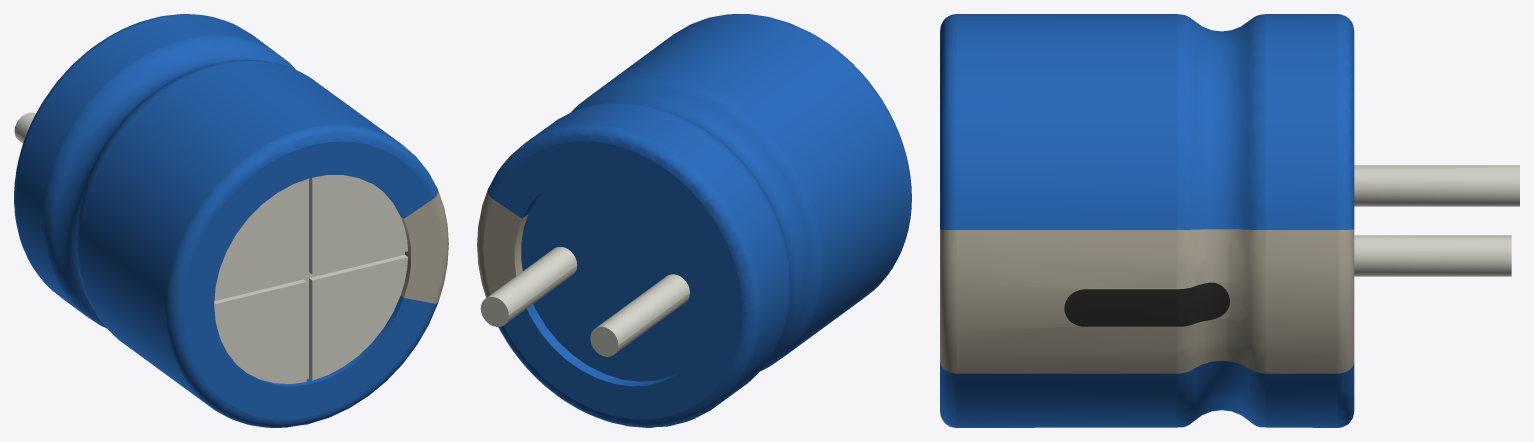
File: Capacitor_THT_CP_Radial_D5.0mm_P2.00mm.glb
The picture shows the model from 3 angles, left to right: view 1: azimuth 30°, elevation 25°; view 2: azimuth 150°, elevation 25°; view 3: azimuth 270°, elevation 25°; orthographic projection. The views are drawn at different scales.
Bounding box in the file's own units: 5 × 5 × 7.
